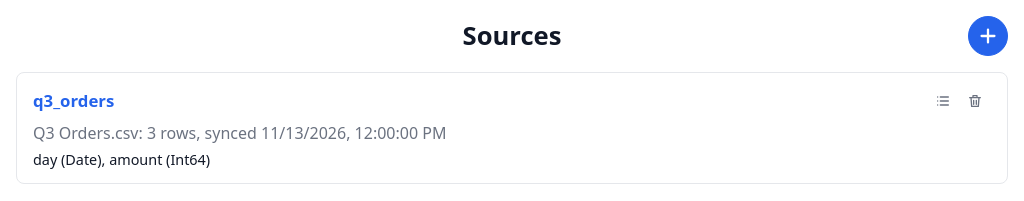
Test: removes a source after a confirm that names the charts reading it
This screenshot has width=1024, height=201.
What coordinates should you click on to do the following:
click the button named "Remove q3_orders"
I would click on:
 (975, 101)
Its box is [959, 85, 991, 117].
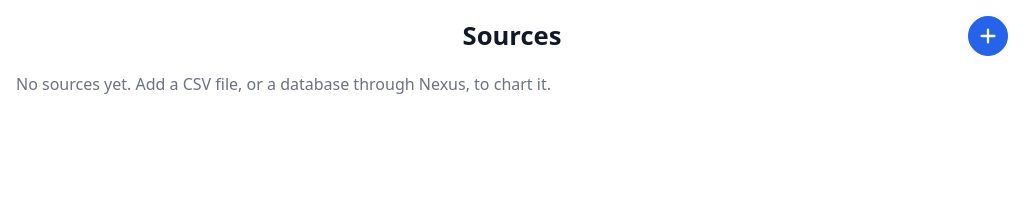
Expected: the text "No sources yet" is shown, [16, 73, 551, 95]
